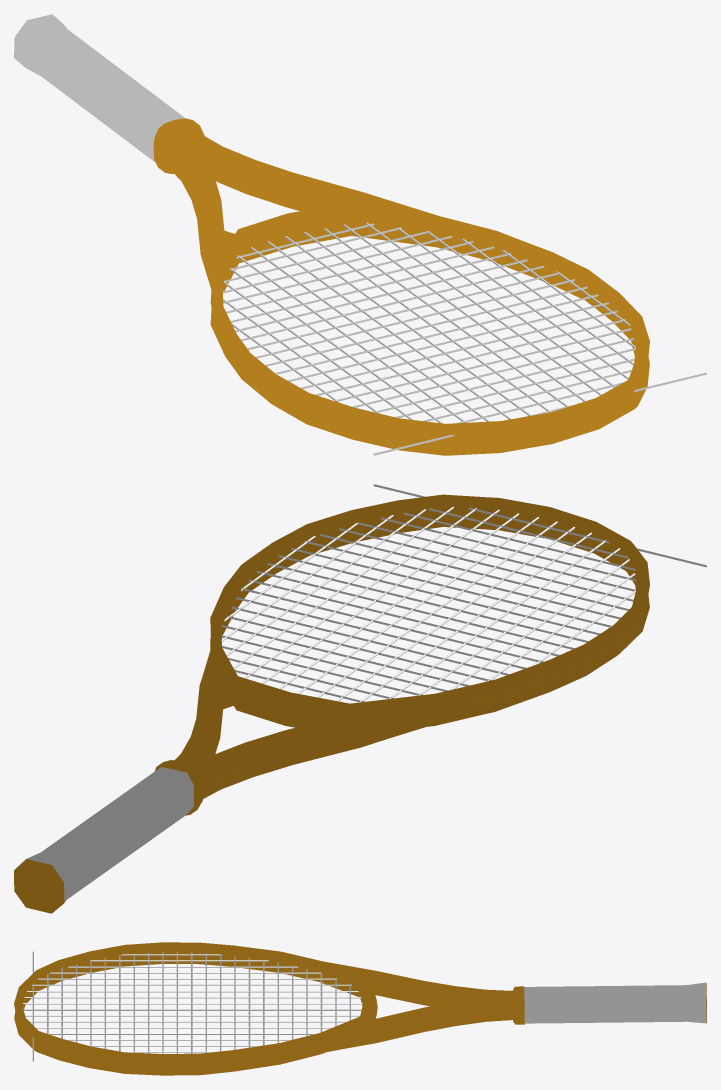
File: tennis_racket#0001.fbx
3 views of the same model, one above another, from view 1: azimuth 30°, elevation 25°; view 2: azimuth 150°, elevation 25°; view 3: azimuth 270°, elevation 25° (orthographic). The views are drawn at different scales.
Visible parts, largest first — view 1: frame, Cylinder_10_1, Cylinder_11_1, Cylinder_9_1, Cylinder_12_1, Cylinder_8_1, Cylinder_13_1, Cylinder_7_1, Cylinder_14_1, Cylinder_6_1, Cylinder_9, Cylinder_8 (+12 smaller); view 2: frame, Cylinder_10_1, Cylinder_8_1, Cylinder_9_1, Cylinder_11_1, Cylinder_7_1, Cylinder_12_1, Cylinder_6_1, Cylinder_13_1, Cylinder_5_1, Cylinder_8, Cylinder_14_1 (+13 smaller); view 3: frame, Cylinder_9, Cylinder_8, Cylinder_10, Cylinder_7, Cylinder_5, Cylinder_6, Cylinder_11, Cylinder_4, Cylinder_12, Cylinder_3, Cylinder_13 (+5 smaller).
Boxes of the visible parts, left/top/right/bottom form: frame: left=14, top=14, right=649, bottom=455; Cylinder_10_1: left=275, top=294, right=598, bottom=374; Cylinder_11_1: left=265, top=286, right=587, bottom=366; Cylinder_9_1: left=287, top=302, right=609, bottom=381; Cylinder_12_1: left=256, top=279, right=574, bottom=358; Cylinder_8_1: left=300, top=310, right=617, bottom=389; Cylinder_13_1: left=247, top=272, right=558, bottom=349; Cylinder_7_1: left=315, top=319, right=625, bottom=395; Cylinder_14_1: left=241, top=265, right=544, bottom=341; Cylinder_6_1: left=309, top=328, right=631, bottom=408; Cylinder_9: left=304, top=232, right=551, bottom=412; Cylinder_8: left=285, top=236, right=530, bottom=415; frame: left=14, top=494, right=649, bottom=913; Cylinder_10_1: left=267, top=563, right=588, bottom=642; Cylinder_8_1: left=291, top=548, right=611, bottom=627; Cylinder_9_1: left=278, top=555, right=600, bottom=634; Cylinder_11_1: left=256, top=570, right=574, bottom=649; Cylinder_7_1: left=304, top=540, right=620, bottom=619; Cylinder_12_1: left=248, top=579, right=559, bottom=656; Cylinder_6_1: left=320, top=534, right=642, bottom=613; Cylinder_13_1: left=243, top=588, right=543, bottom=662; Cylinder_5_1: left=338, top=528, right=633, bottom=601; Cylinder_8: left=316, top=521, right=557, bottom=697; Cylinder_14_1: left=236, top=597, right=526, bottom=669; frame: left=14, top=942, right=706, bottom=1075; Cylinder_9: left=23, top=1009, right=361, bottom=1010; Cylinder_8: left=23, top=1003, right=362, bottom=1004; Cylinder_10: left=25, top=1015, right=359, bottom=1016; Cylinder_7: left=24, top=997, right=361, bottom=998; Cylinder_5: left=32, top=984, right=351, bottom=985; Cylinder_6: left=27, top=991, right=358, bottom=992; Cylinder_11: left=29, top=1021, right=347, bottom=1022; Cylinder_4: left=38, top=978, right=337, bottom=979; Cylinder_12: left=35, top=1027, right=332, bottom=1028; Cylinder_3: left=50, top=972, right=320, bottom=973; Cylinder_13: left=48, top=1033, right=315, bottom=1034.
Size of the model in its own units: 12972 by 1837 by 33006.
